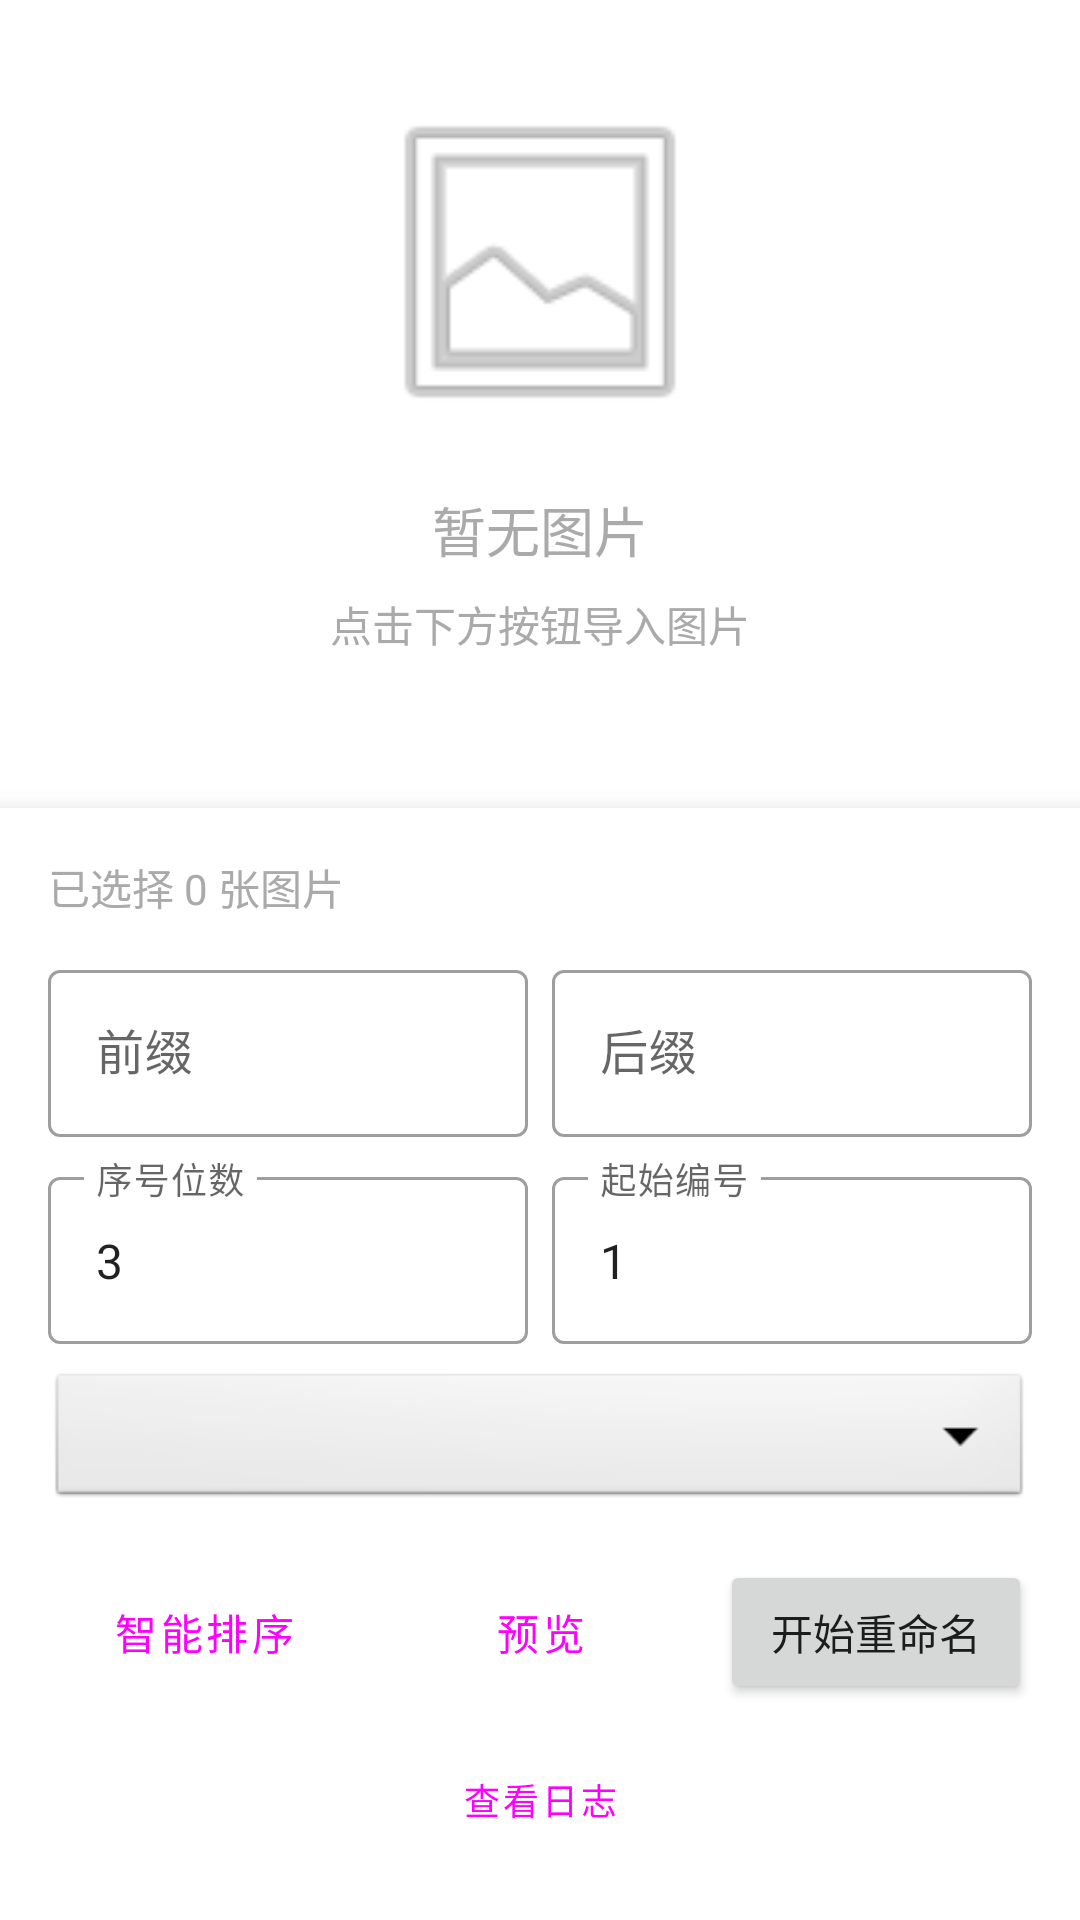

Icon bounding boxes for this 1080x1920 phone screenshot, format (x1, y1, x2, y2):
gallery: (405, 127, 675, 397)
